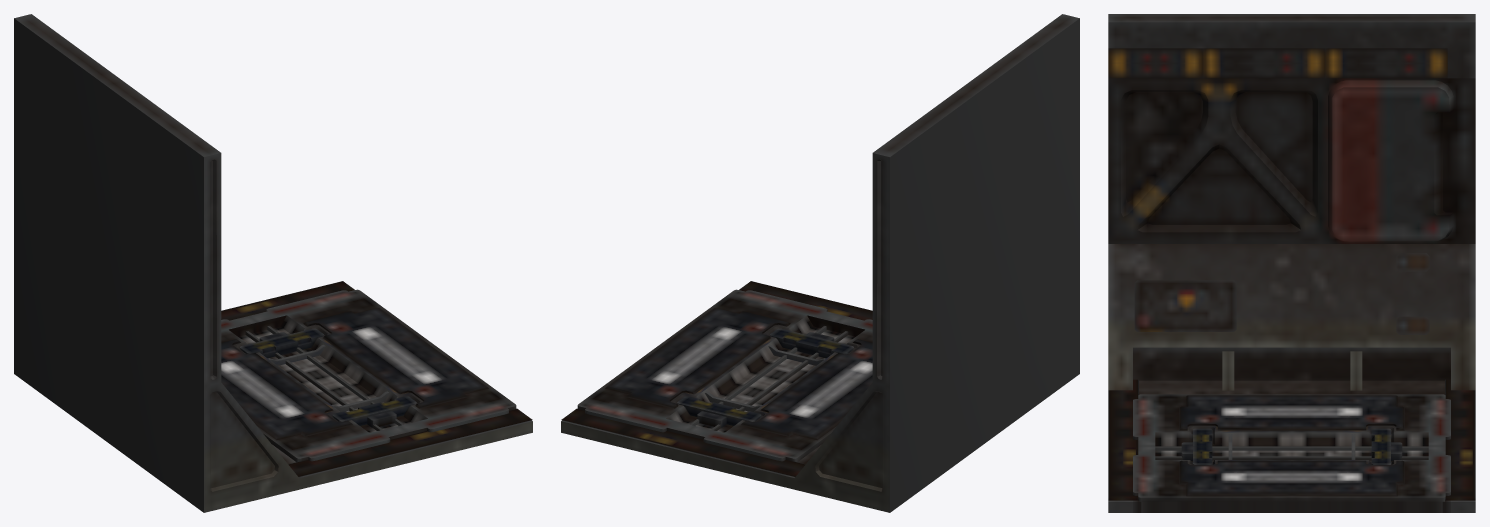
Rendered from Wall-Floor_02.FBX.
3 renders of one model, left to right at view 1: azimuth 30°, elevation 25°; view 2: azimuth 150°, elevation 25°; view 3: azimuth 270°, elevation 25°, orthographic. The views are drawn at different scales.
Parts seen in each view (by area): view 1: Wall-Floor_02; view 2: Wall-Floor_02; view 3: Wall-Floor_02.
Part boxes in pixels (box(x1,y1,x2,y2)): Wall-Floor_02: box(14, 14, 532, 512); Wall-Floor_02: box(561, 14, 1079, 512); Wall-Floor_02: box(1108, 14, 1475, 512).
Size of the model in its own units: 300 by 310 by 300.
